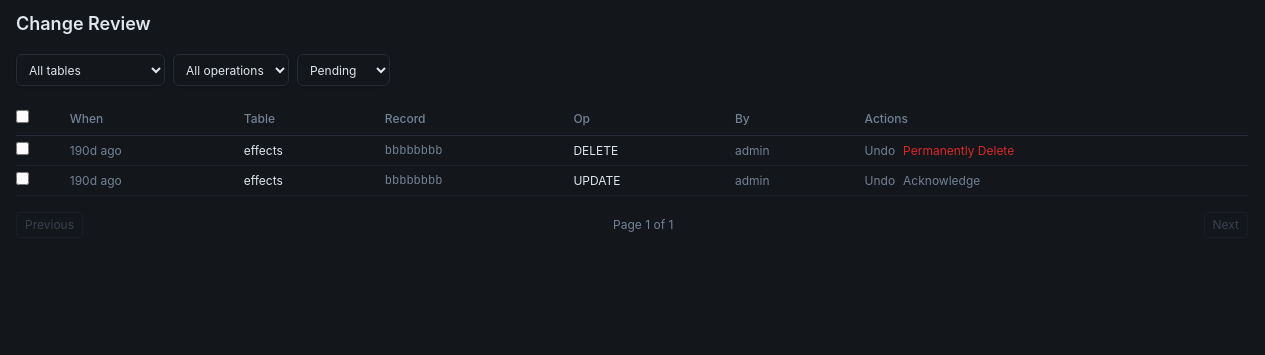
ChangeReviewPage › Bulk Approve opens confirmation dialog with count
What coordinates should you click on to do the following:
click the checkbox named "select all"
I would click on:
 (22, 116)
Its box is [16, 110, 29, 123].
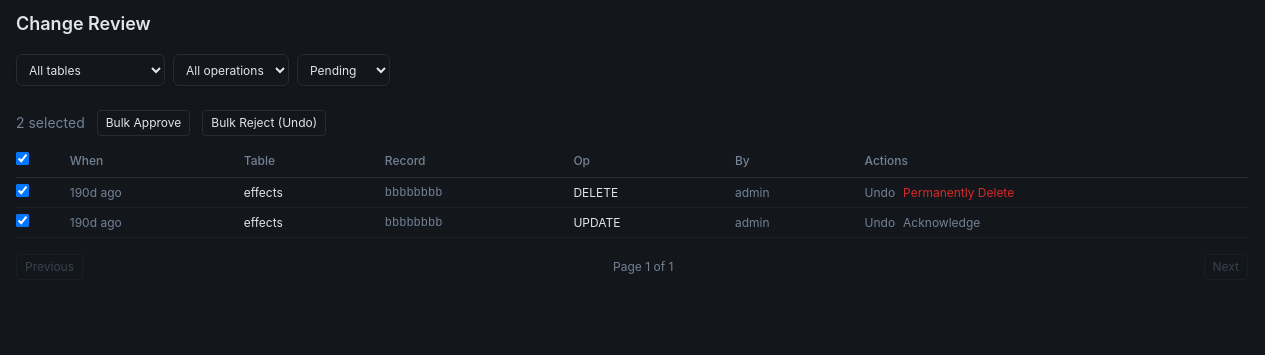
What coordinates should you click on to do the following:
click the button "Bulk Approve"
I would click on:
 (144, 123)
Its box is [97, 110, 190, 136].
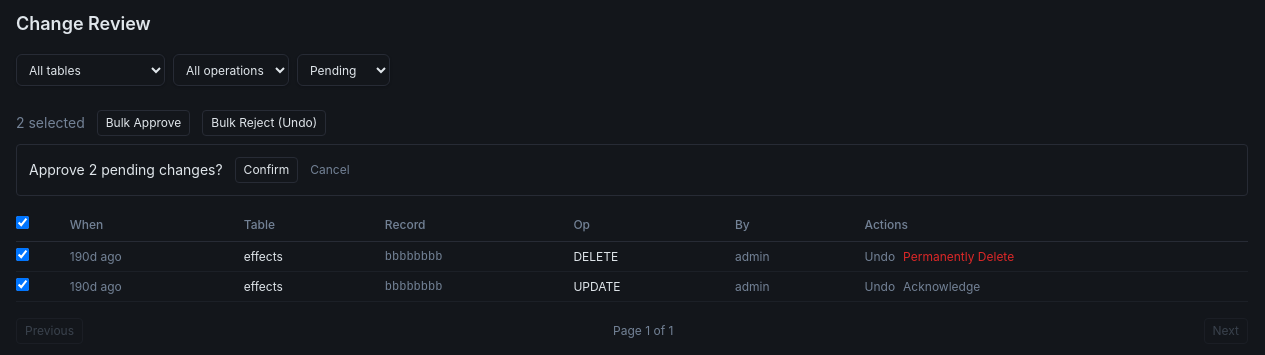
expect the text "Approve 2 pending changes?" is shown: met, box [29, 160, 223, 180]
